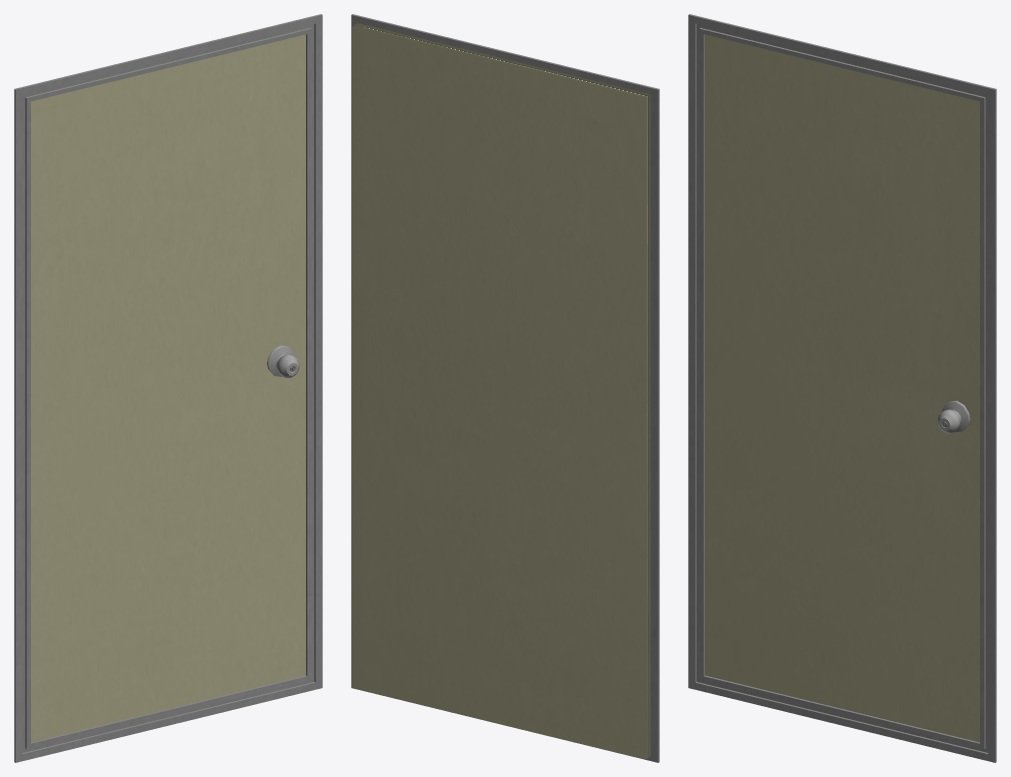
File: door_v1.fbx
3 views of the same model, side by side, from view 1: azimuth 30°, elevation 25°; view 2: azimuth 150°, elevation 25°; view 3: azimuth 330°, elevation 25° (orthographic).
Parts seen in each view (by area): view 1: door, outline, handle; view 2: door, outline; view 3: door, outline, handle.
Boxes of the visible parts, bbox=[...] form: door: bbox=[31, 34, 305, 742]; outline: bbox=[14, 14, 322, 762]; handle: bbox=[267, 345, 299, 378]; door: bbox=[352, 23, 650, 759]; outline: bbox=[351, 14, 659, 762]; door: bbox=[705, 34, 979, 742]; outline: bbox=[688, 14, 996, 762]; handle: bbox=[937, 400, 970, 433].
Bounding box in the file's own units: 99.62 × 209 × 9.97.
Materials: 4 (4 with a texture image).
